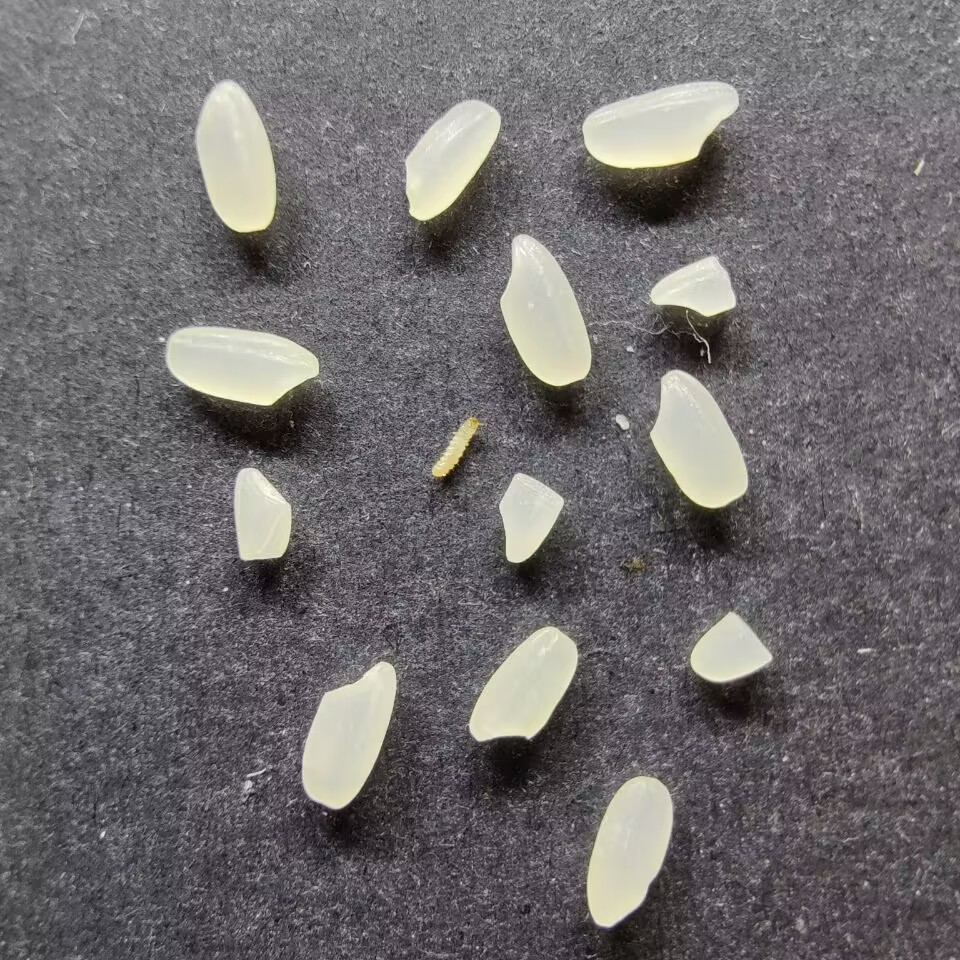broken: (498, 470, 564, 563), (689, 611, 773, 683), (232, 467, 291, 561), (649, 256, 736, 317)
others: (429, 414, 480, 478)
rice: (300, 659, 397, 809), (498, 233, 593, 386), (581, 80, 738, 169), (648, 369, 748, 508), (585, 774, 672, 927), (468, 625, 578, 741), (163, 325, 320, 406), (194, 80, 277, 233), (403, 99, 501, 221)
